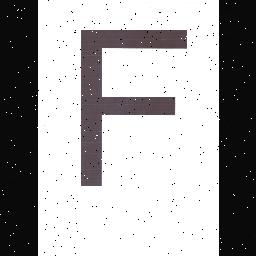f: (72, 20, 198, 194)
